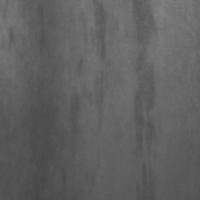inclusion: (128, 1, 165, 200), (80, 1, 112, 140), (29, 1, 59, 68), (63, 87, 86, 166), (132, 159, 157, 200)
